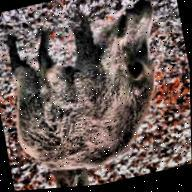boar: (0, 0, 180, 189)
